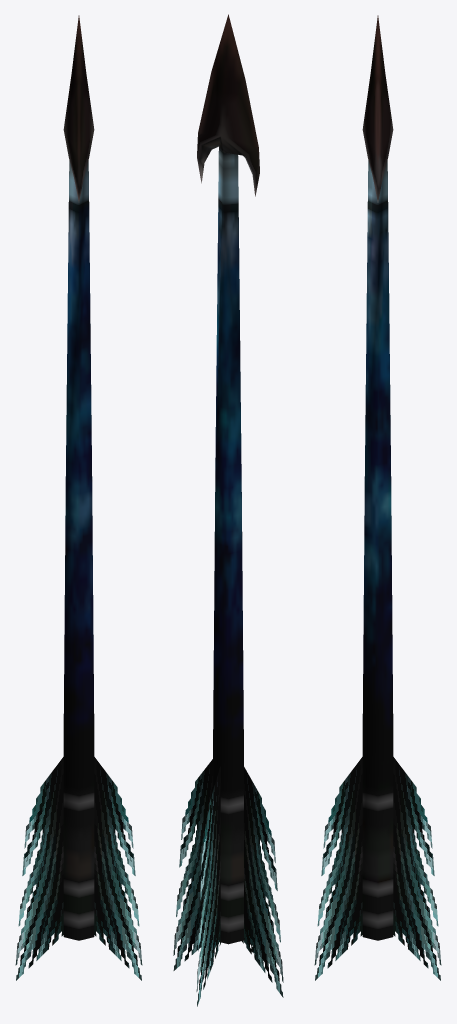
File: INST_LAKETOWN_BLACKARROW.fbx
The picture shows the model from 3 angles, left to right: view 1: azimuth 90°, elevation 25°; view 2: azimuth 150°, elevation 25°; view 3: azimuth 270°, elevation 25°; orthographic projection.
Visible parts, largest first — view 1: INST_LAKETOWN_BLACKARROW; view 2: INST_LAKETOWN_BLACKARROW; view 3: INST_LAKETOWN_BLACKARROW.
Part boxes in pixels (x1,y1,x2,y2): INST_LAKETOWN_BLACKARROW: [15, 15, 142, 980]; INST_LAKETOWN_BLACKARROW: [173, 14, 283, 1006]; INST_LAKETOWN_BLACKARROW: [314, 15, 441, 980].
Bounding box in the file's own units: 1462 × 12096 × 1462.
Materials: 2 (2 with a texture image).
